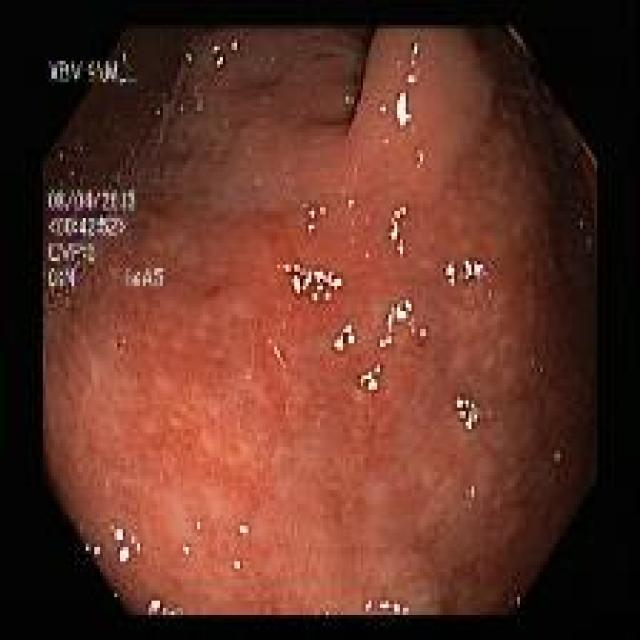ulcerative-colitis: (46, 30, 596, 615)
